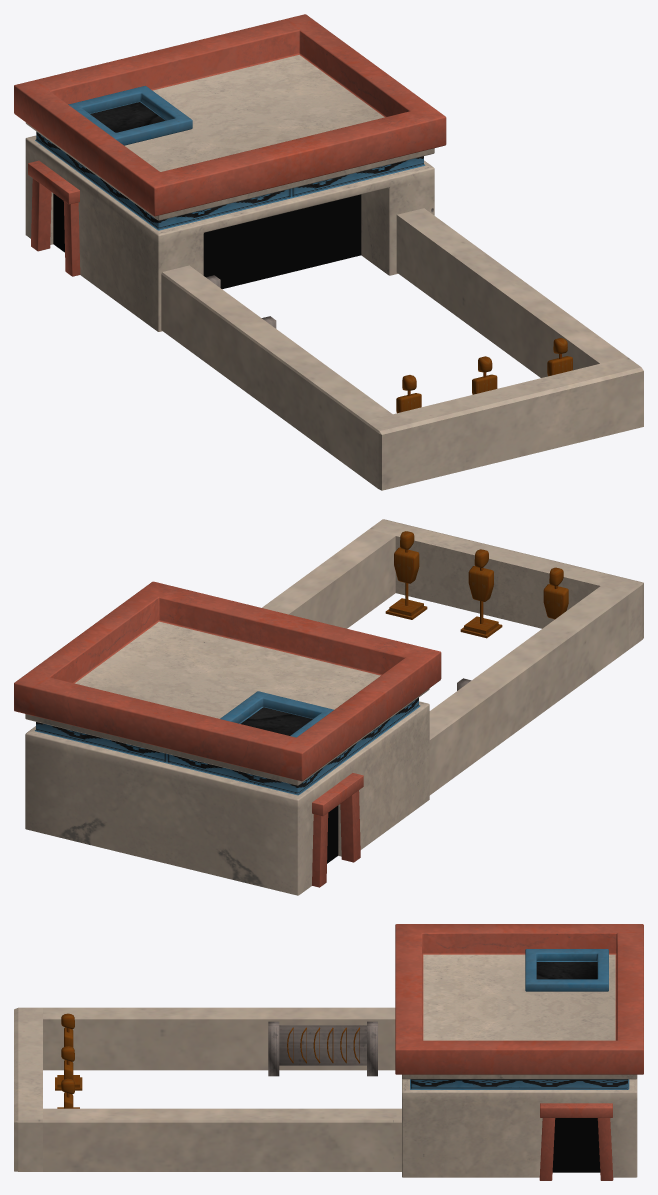
Rendered from distancia aztecas.fbx.
3 renders of one model, top to bottom at view 1: azimuth 30°, elevation 25°; view 2: azimuth 150°, elevation 25°; view 3: azimuth 270°, elevation 25°, orthographic. The views are drawn at different scales.
Parts seen in each view (by area): view 1: distancia; view 2: distancia; view 3: distancia.
Part boxes in pixels (x1,y1,x2,y2): distancia: (14, 14, 643, 490); distancia: (14, 519, 643, 895); distancia: (14, 924, 643, 1180).
Size of the model in its own units: 655 by 311 by 1353.
Materials: 1 (1 with a texture image).
